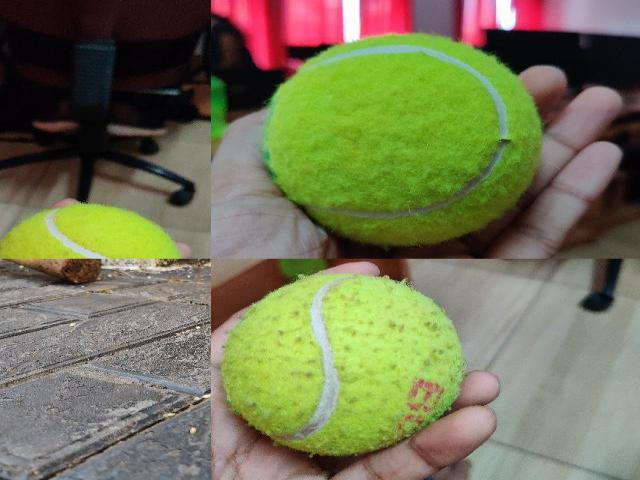tennis-ball: (262, 33, 542, 247), (221, 274, 463, 455), (0, 203, 187, 258)
